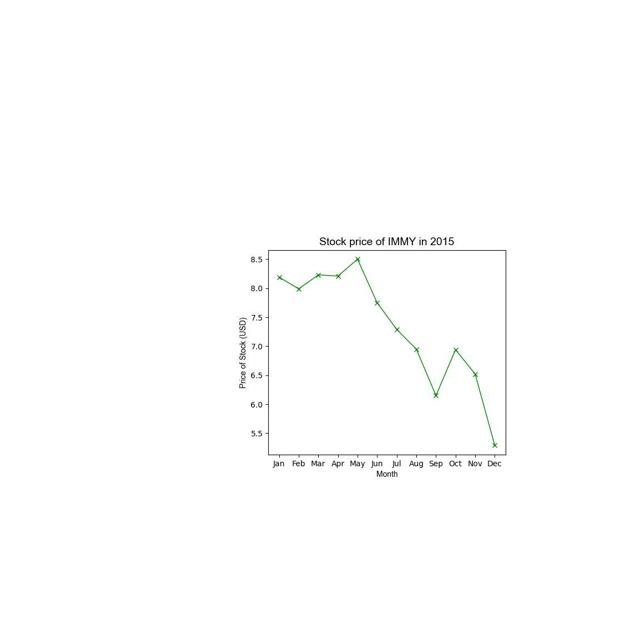Graph: (205, 218, 560, 484)
